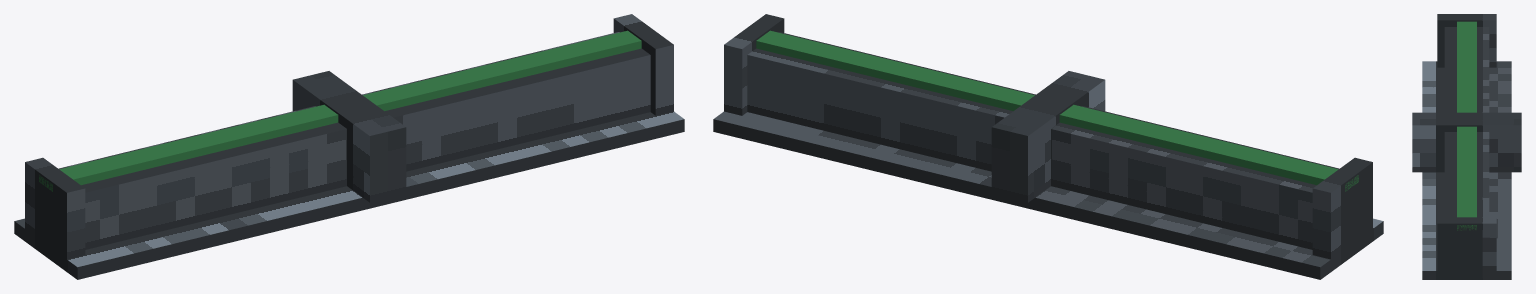
The model's file is ck_raceway_run.glb.
3 renders of one model, left to right at view 1: azimuth 30°, elevation 25°; view 2: azimuth 150°, elevation 25°; view 3: azimuth 270°, elevation 25°, orthographic. The views are drawn at different scales.
Visible parts, largest first — view 1: ck_raceway_run, power_core; view 2: ck_raceway_run, power_core; view 3: ck_raceway_run, power_core.
Part boxes in pixels (left/top/right/bottom): ck_raceway_run: left=14, top=14, right=684, bottom=279; power_core: left=39, top=30, right=641, bottom=191; ck_raceway_run: left=713, top=14, right=1383, bottom=279; power_core: left=756, top=30, right=1358, bottom=191; ck_raceway_run: left=1412, top=14, right=1521, bottom=279; power_core: left=1457, top=21, right=1476, bottom=230.
Bounding box in the file's own units: 1 × 0.125 × 0.22.
2 materials, 2 textured.
